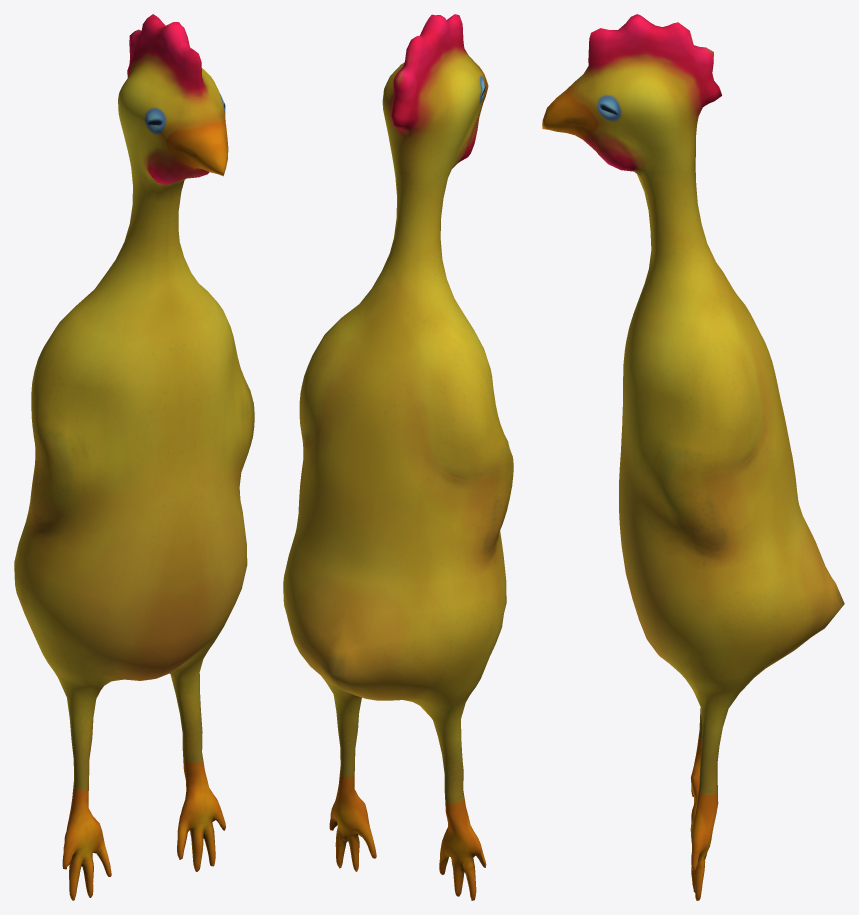
The model's file is rubberchicken.fbx.
3 renders of one model, left to right at view 1: azimuth 30°, elevation 25°; view 2: azimuth 150°, elevation 25°; view 3: azimuth 270°, elevation 25°, orthographic. The views are drawn at different scales.
Parts seen in each view (by area): view 1: rubberchicken; view 2: rubberchicken; view 3: rubberchicken.
Part boxes in pixels (<box>): rubberchicken: <box>14,14,254,900</box>; rubberchicken: <box>283,14,513,900</box>; rubberchicken: <box>542,14,844,900</box>.
Size of the model in its own units: 12.56 by 50.92 by 16.37.
Materials: 1 (1 with a texture image).
